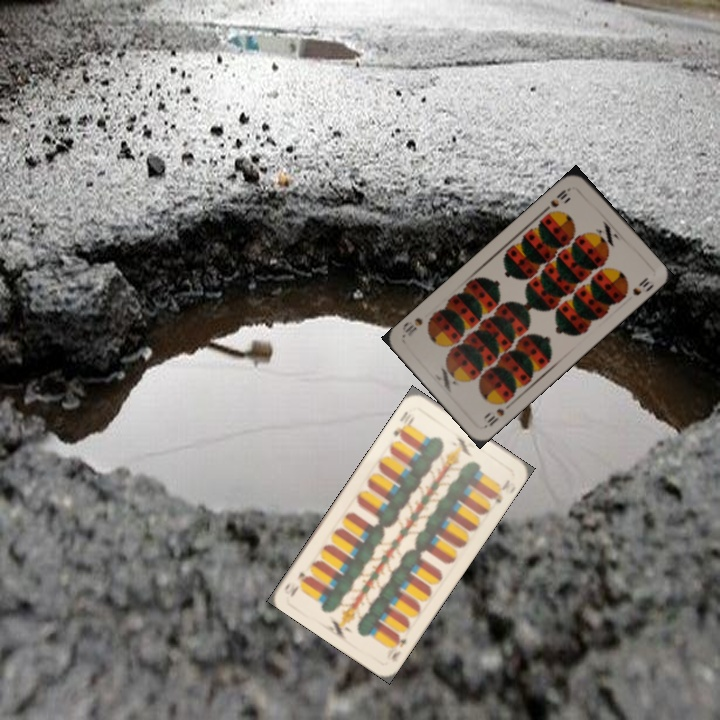E10: (389, 407, 417, 442), (383, 630, 409, 665)
S10: (480, 396, 511, 430), (546, 183, 573, 210)
